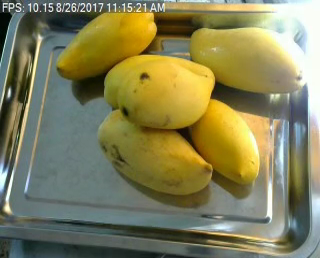Mango: (97, 109, 212, 194), (190, 26, 307, 91), (58, 5, 157, 79), (117, 59, 213, 127), (188, 96, 262, 184), (104, 54, 214, 112)
